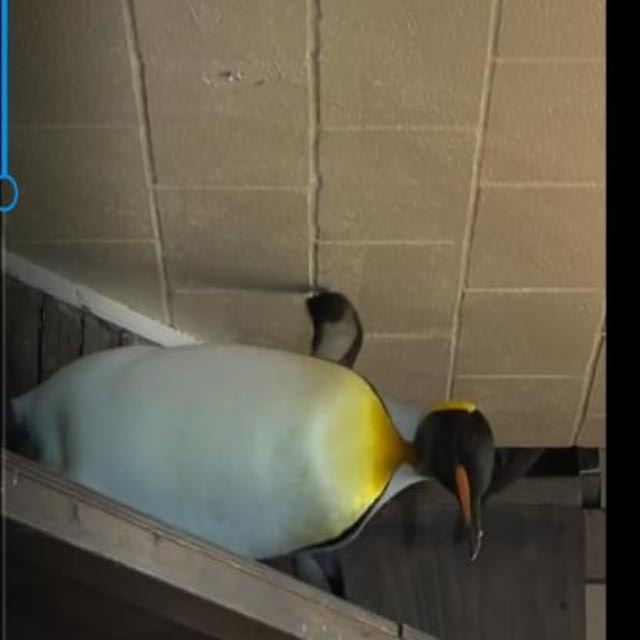penguin: (8, 289, 498, 566)
